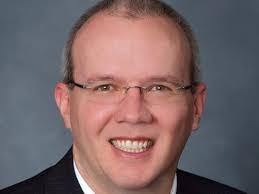normalEye: (90, 77, 180, 99)
normalMouth: (106, 131, 159, 161)
